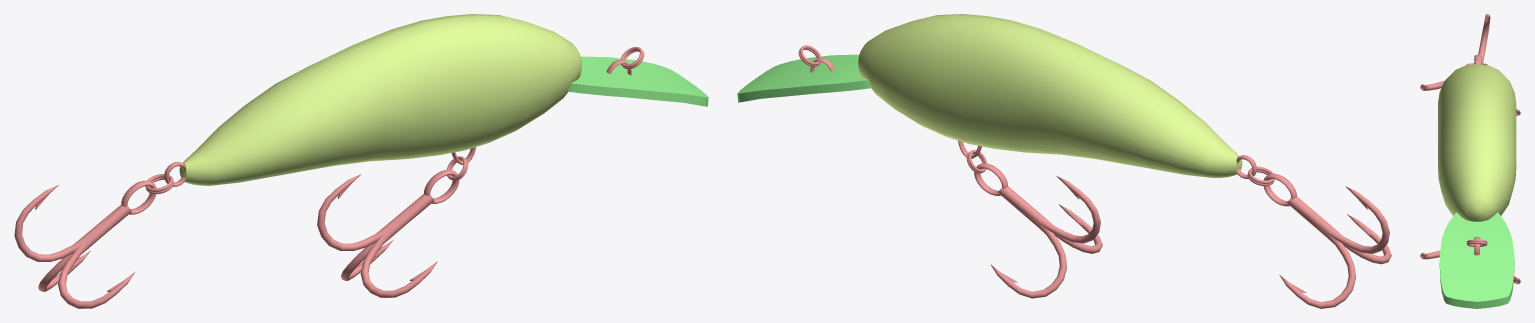
Rendered from Señuelo.fbx.
3 views of the same model, side by side, from view 1: azimuth 30°, elevation 25°; view 2: azimuth 150°, elevation 25°; view 3: azimuth 270°, elevation 25° (orthographic). The views are drawn at different scales.
Parts seen in each view (by area): view 1: Pez; view 2: Pez; view 3: Pez.
Part boxes in pixels (<box>): Pez: <box>14,14,708,308</box>; Pez: <box>737,14,1391,308</box>; Pez: <box>1420,14,1520,308</box>.
Size of the model in its own units: 570 by 209 by 91.94.
